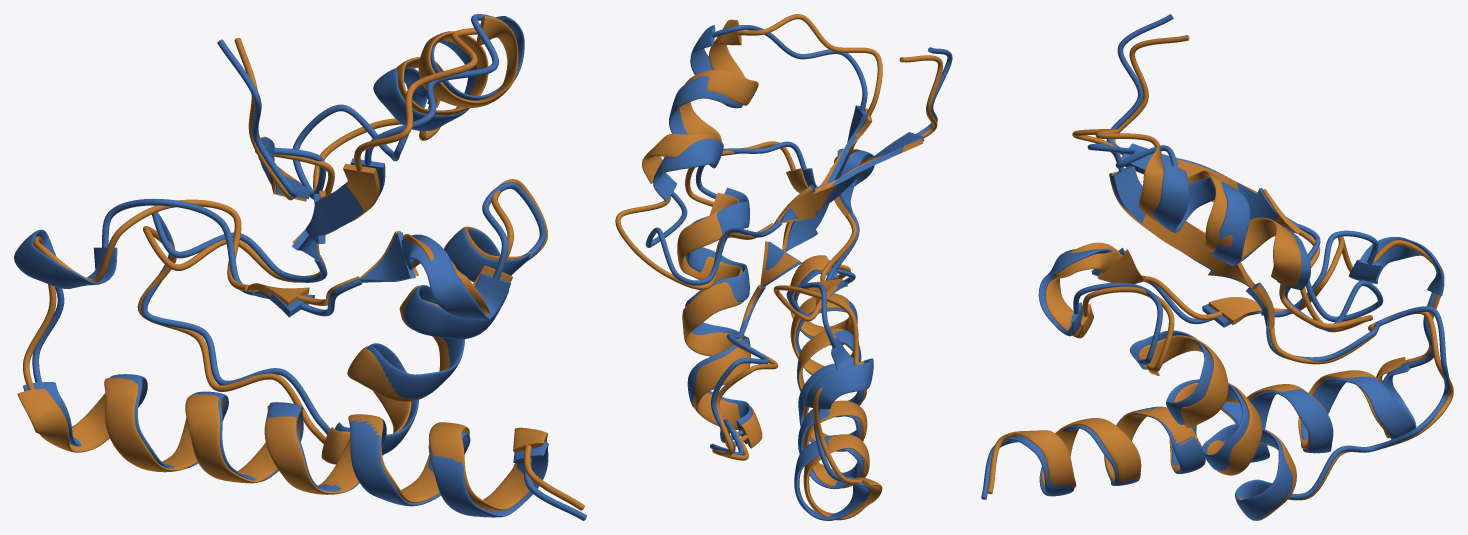
Rendered from molstar-model.glb.
The picture shows the model from 3 angles, left to right: view 1: azimuth 30°, elevation 25°; view 2: azimuth 150°, elevation 25°; view 3: azimuth 270°, elevation 25°; orthographic projection. The views are drawn at different scales.
Size of the model in its own units: 26.4 by 33.17 by 33.62.
